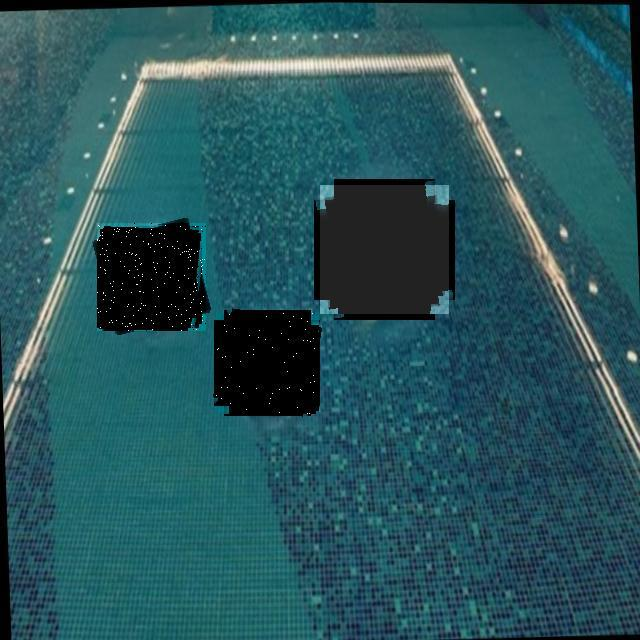swimming: (320, 185, 449, 314), (97, 223, 206, 331), (216, 312, 319, 414)
